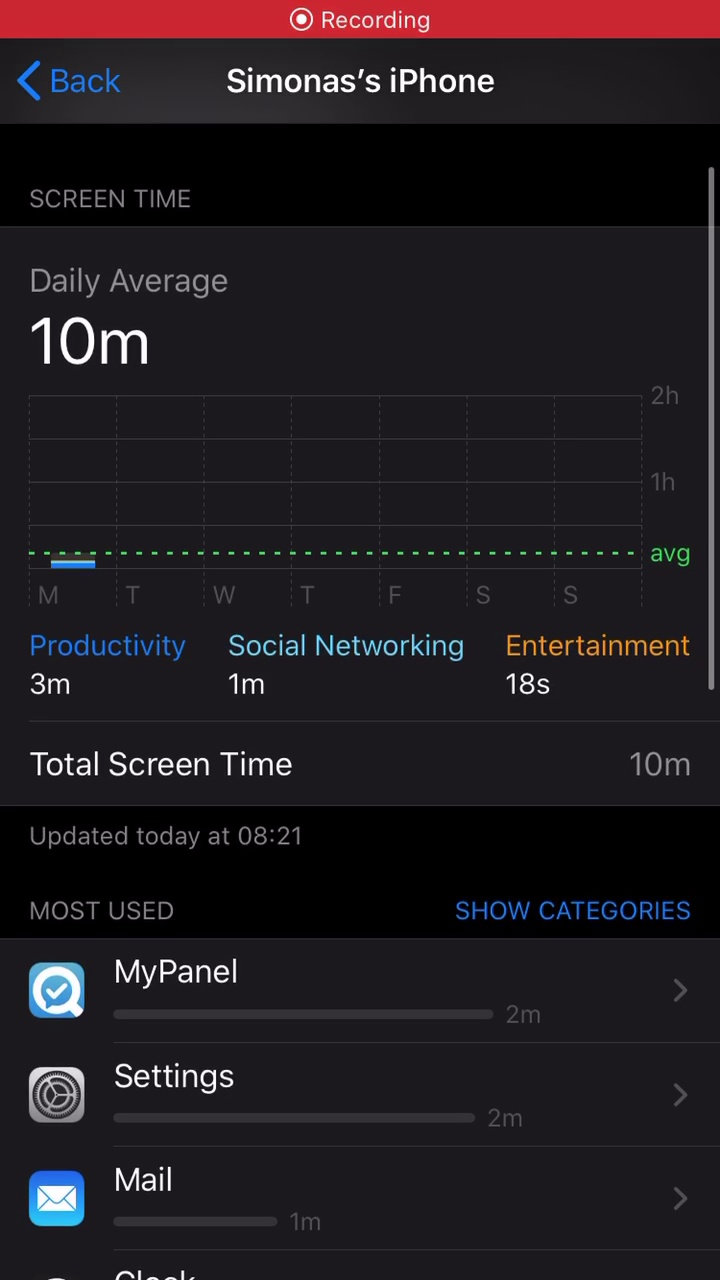use_over: (23, 624, 700, 807)
